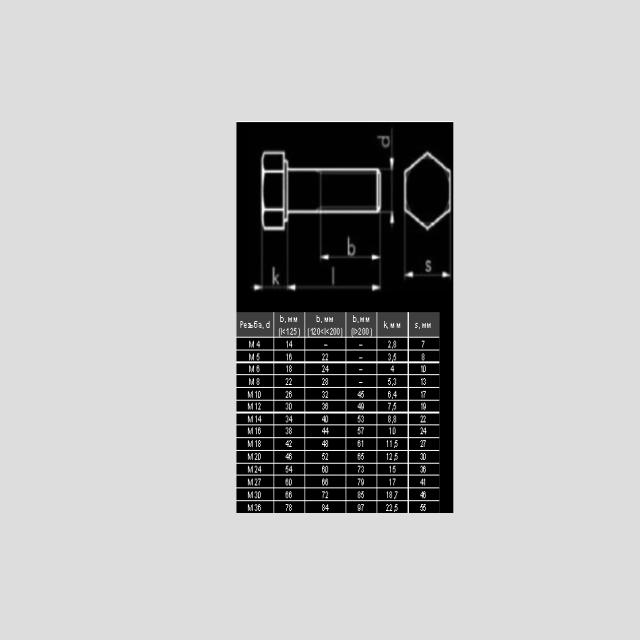marking_line: (250, 230, 384, 292), (285, 224, 383, 294), (319, 215, 383, 264), (404, 231, 451, 281), (250, 232, 288, 292), (382, 128, 395, 230), (432, 227, 453, 281), (383, 129, 395, 172), (403, 219, 411, 282), (381, 208, 395, 229)
